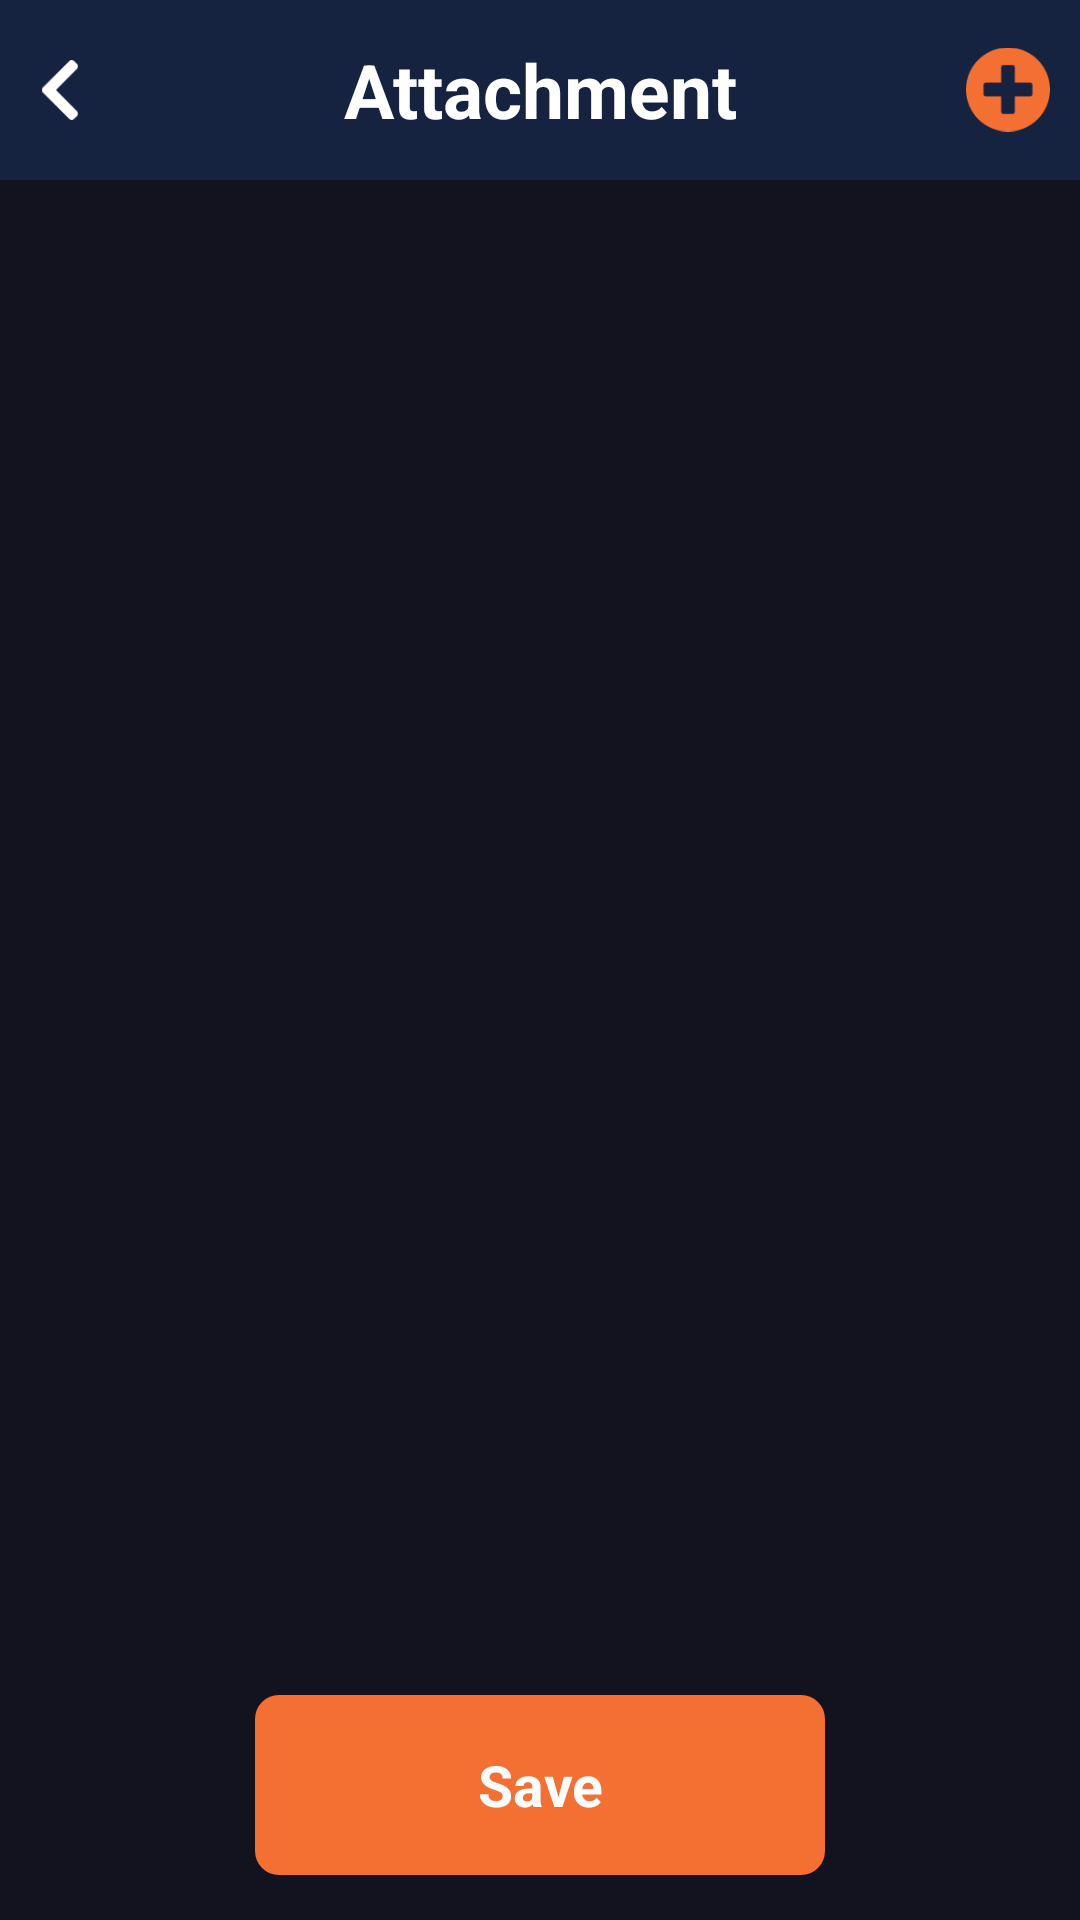

Named icons in this screenshot (1080x1920) and their centers, [x,y]:
add: [1008,90]
back: [60,90]
